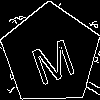M: (25, 29, 78, 86)
